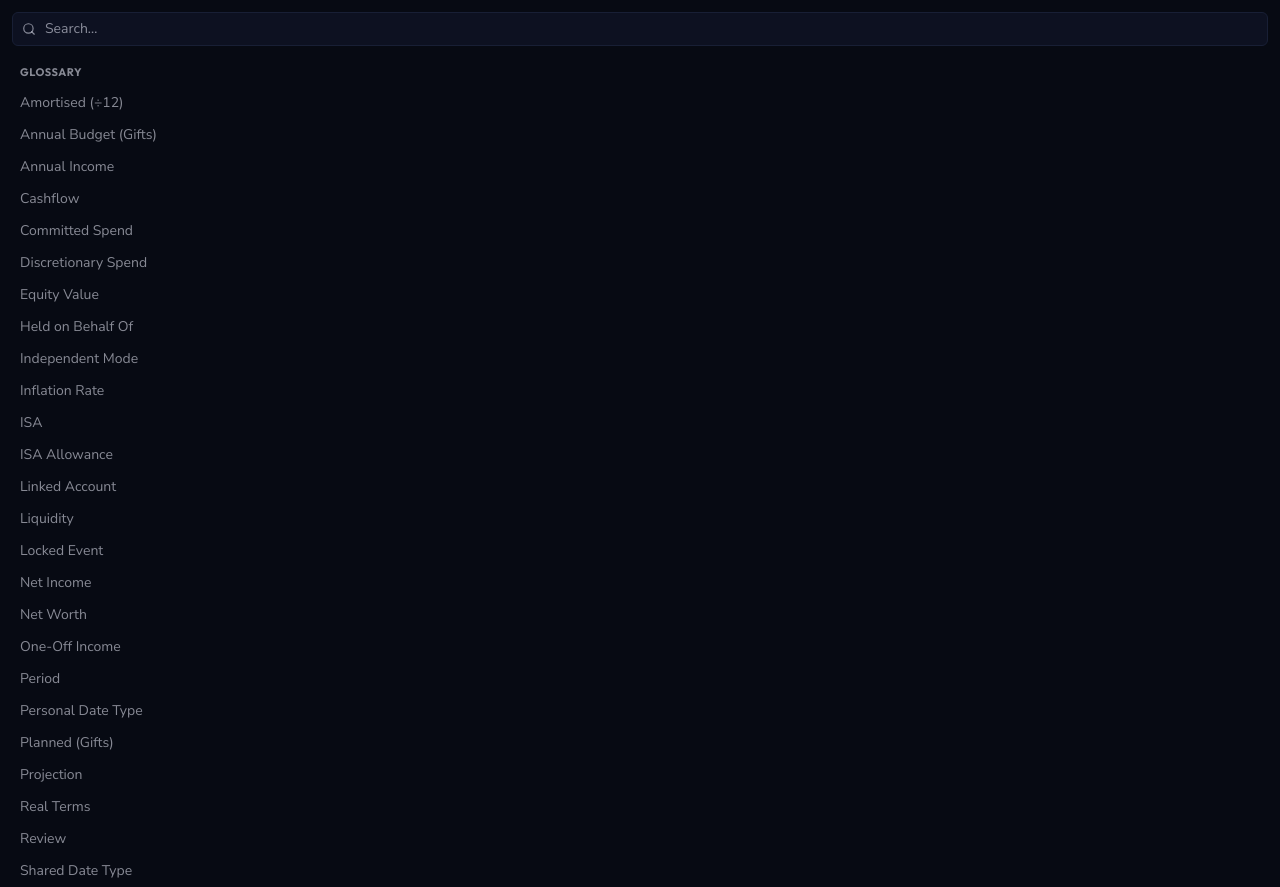
Test: HelpSidebar › shows no results state when search has no matches
In the field with placeholder "Search…": (640, 29) [12,12,1268,46], type "xyznotfound"
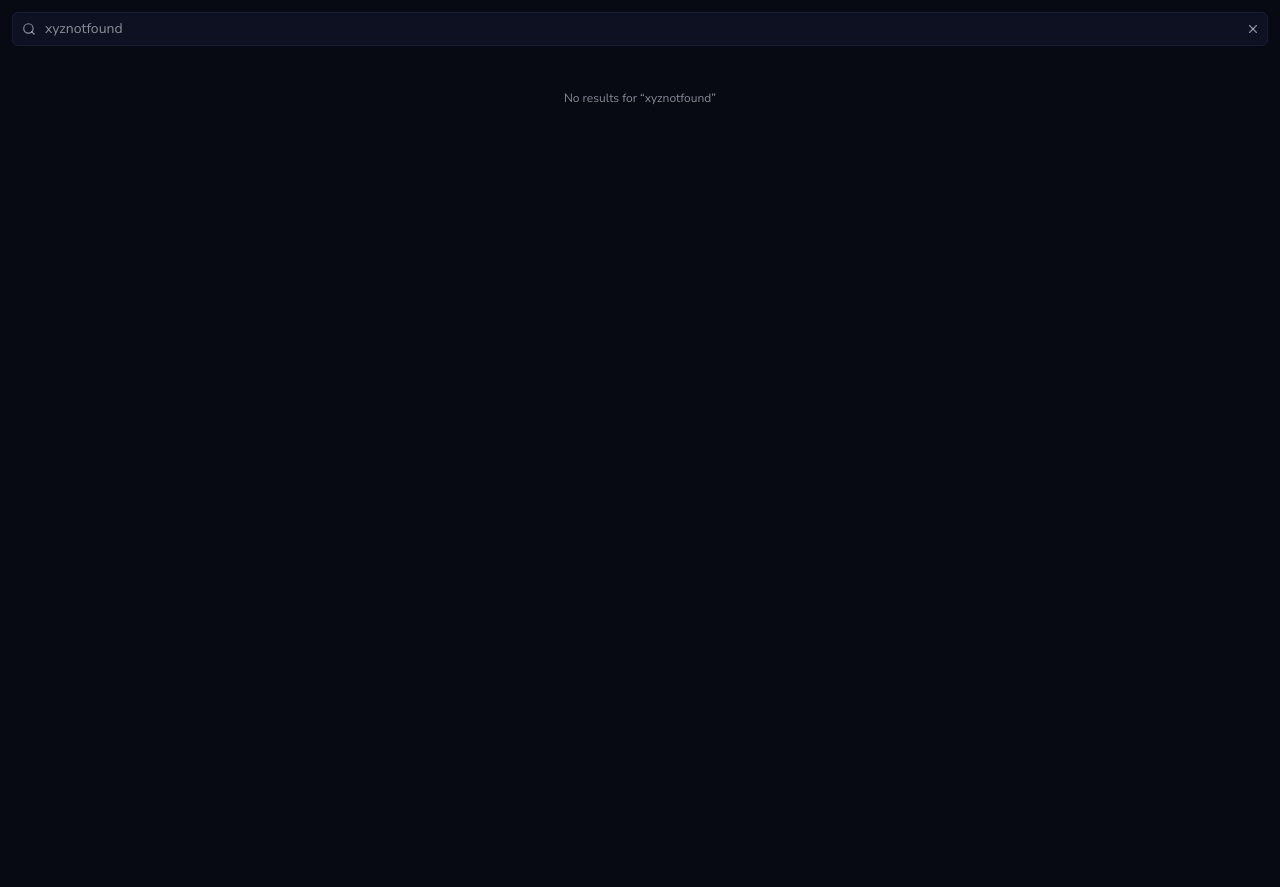
Result: the text "No results for “xyznotfound”" is shown at [564,90,716,106]
